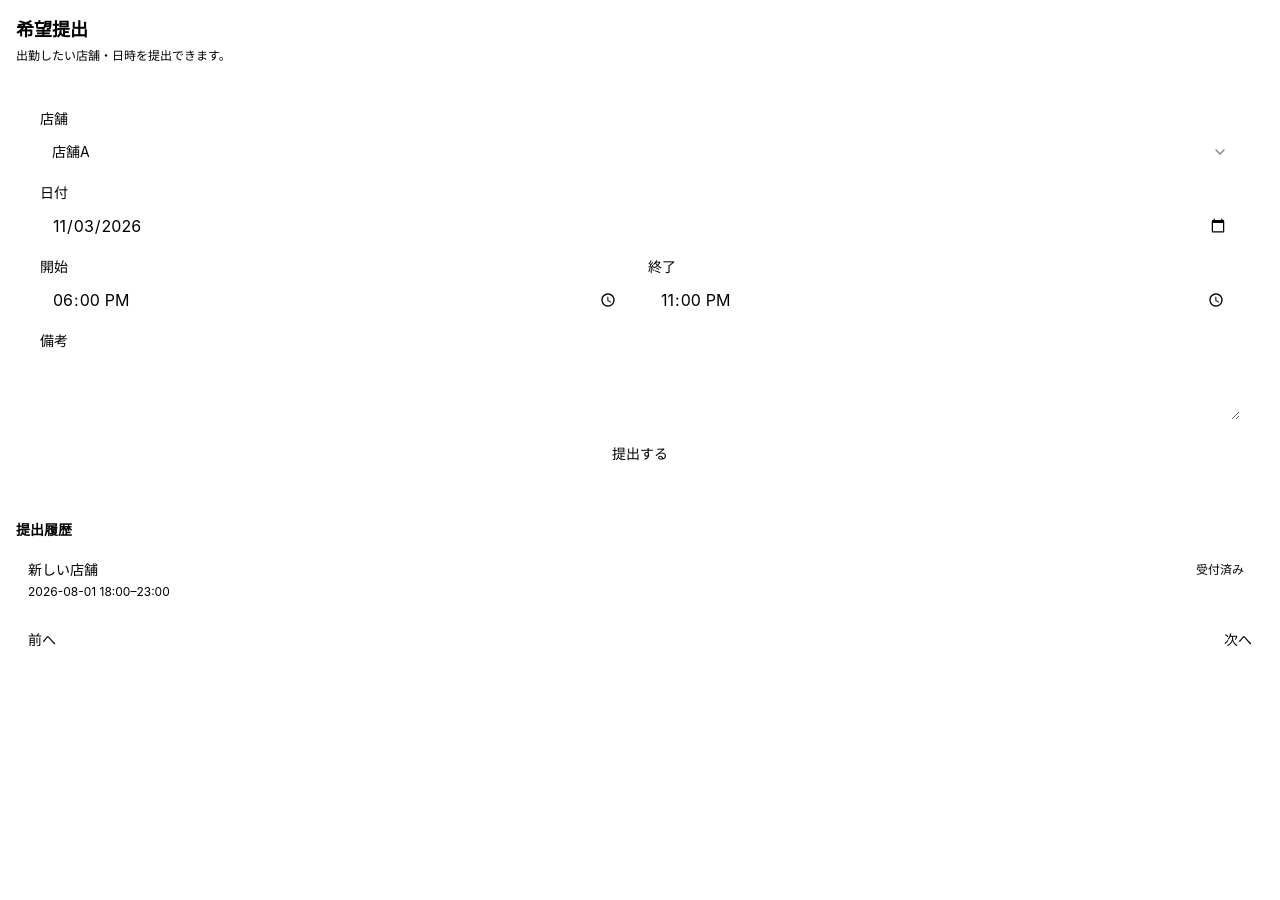
Test: CastRequestsPage › 履歴をページ番号で送り、次のページを取り直すこと
This screenshot has width=1280, height=900.
Check: the text "新しい店舗" is shown, box [28,560,98,580]
Click the button "次へ". click: coordinates (1238, 640)
box: [1212,624,1264,656]
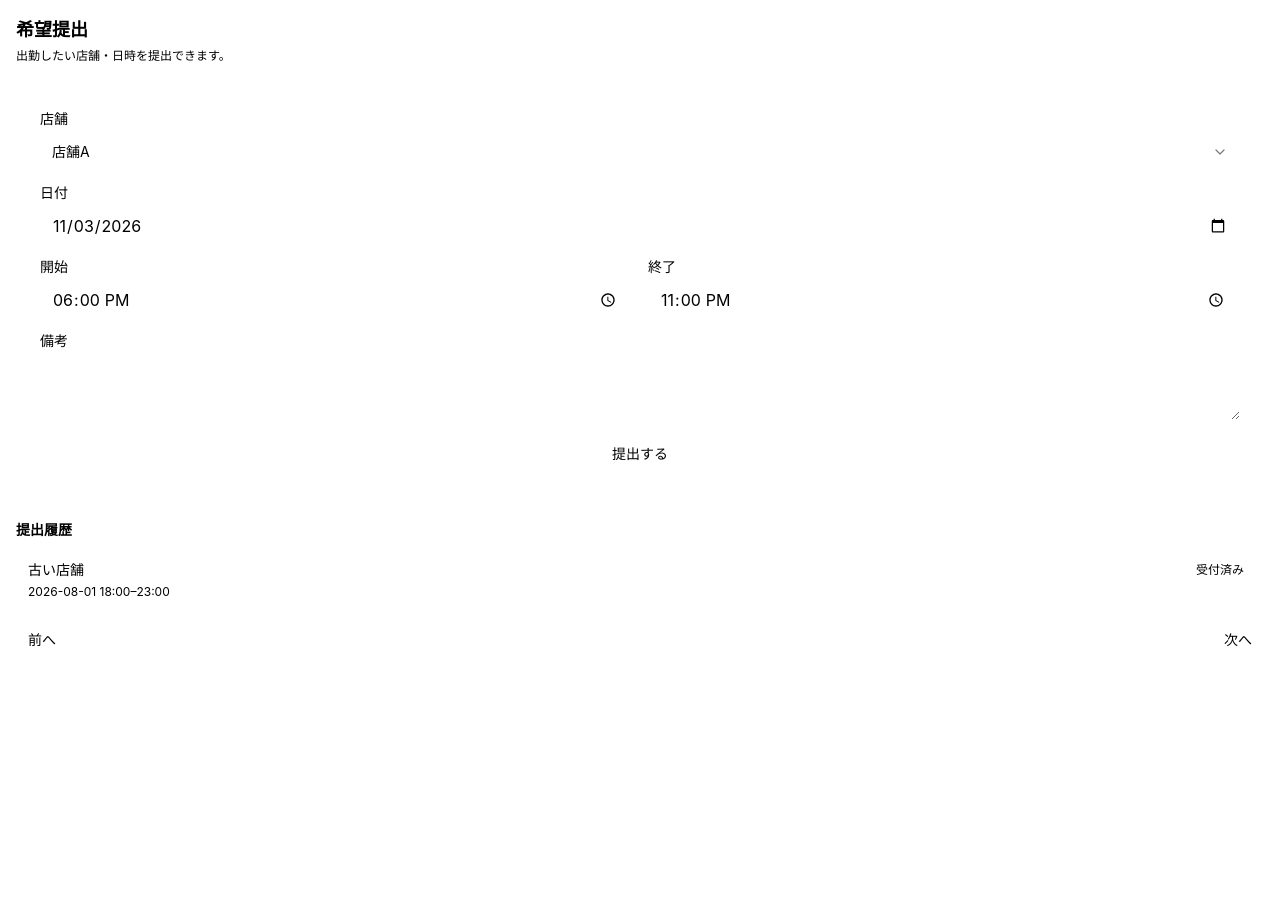
Check: the text "古い店舗" is shown, box [28,560,84,580]
Check: the text "新しい店舗" is gone
